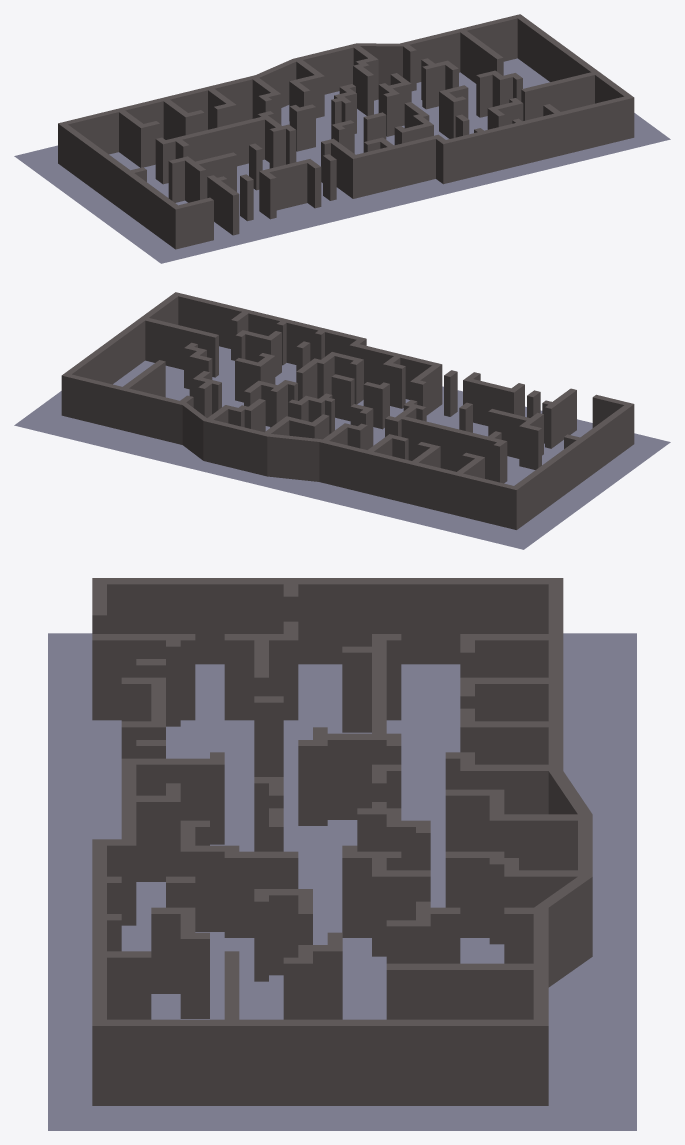
File: Room_02.fbx
The picture shows the model from 3 angles, top to bottom: view 1: azimuth 30°, elevation 25°; view 2: azimuth 150°, elevation 25°; view 3: azimuth 270°, elevation 25°; orthographic projection. The views are drawn at different scales.
Visible parts, largest first — view 1: pCube27, pPlane1; view 2: pCube27, pPlane1; view 3: pCube27, pPlane1.
Part boxes in pixels (x1,y1,x2,y2): pCube27: (58, 14, 634, 249); pPlane1: (14, 58, 670, 263); pCube27: (61, 292, 634, 529); pPlane1: (14, 346, 670, 549); pCube27: (92, 578, 592, 1105); pPlane1: (48, 633, 636, 1130).
Size of the model in its own units: 400 by 30 by 200.
